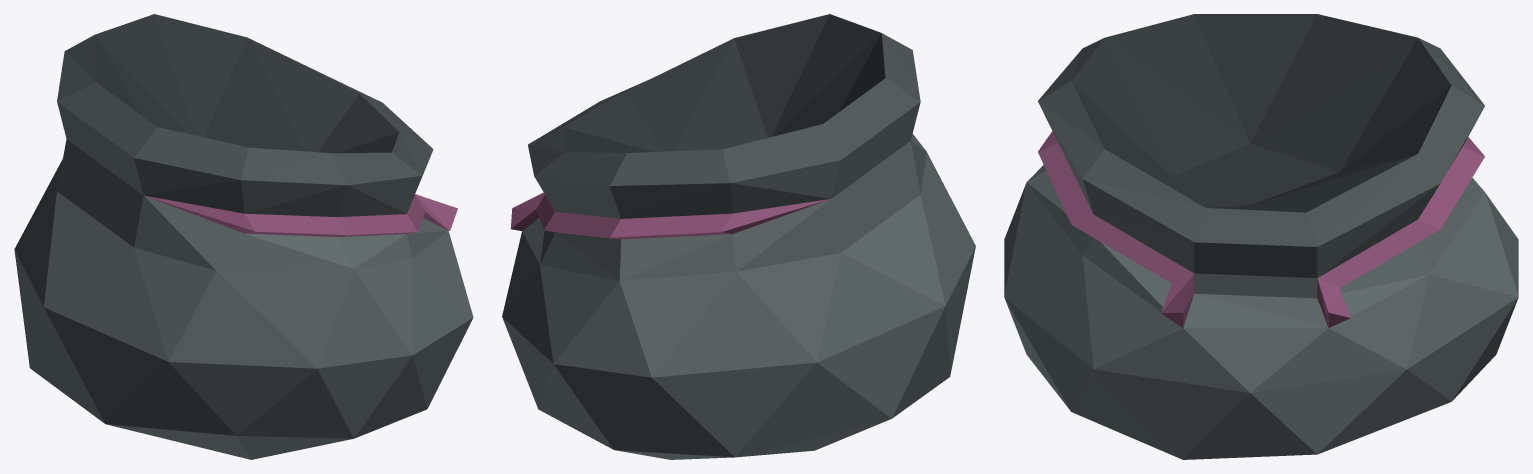
The model's file is looting-bag.gltf.
3 renders of one model, left to right at view 1: azimuth 30°, elevation 25°; view 2: azimuth 150°, elevation 25°; view 3: azimuth 270°, elevation 25°, orthographic. The views are drawn at different scales.
Bounding box in the file's own units: 42 × 33 × 46.
1 material, 1 textured.
